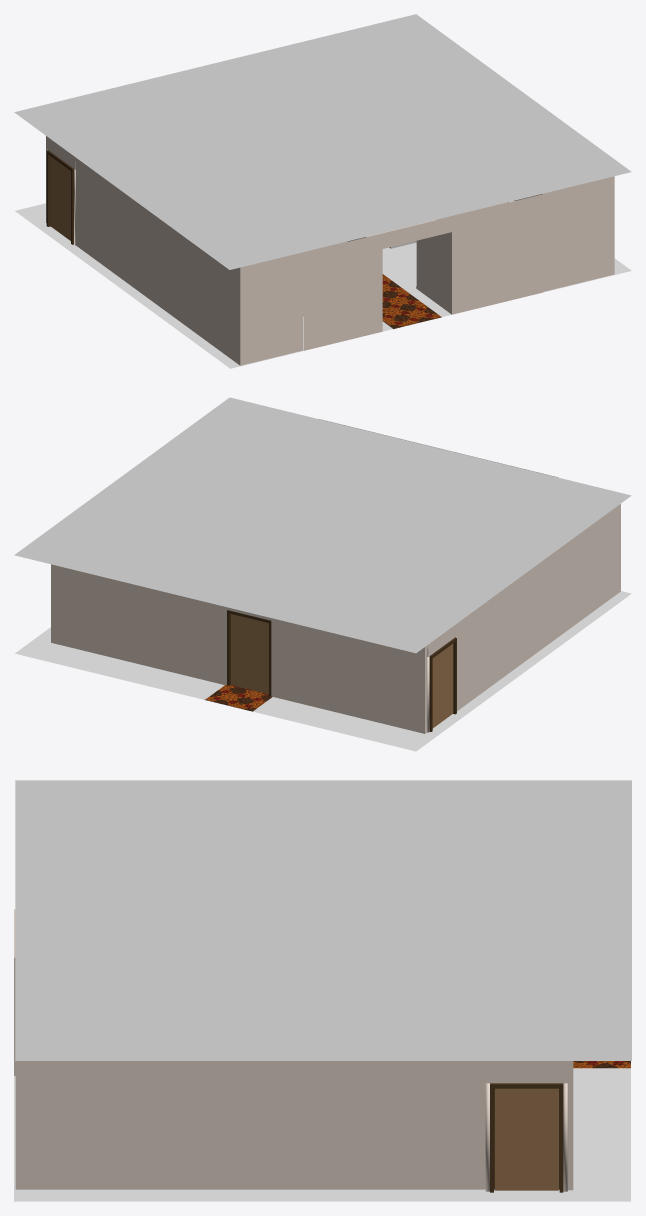
File: Reception.fbx
The picture shows the model from 3 angles, top to bottom: view 1: azimuth 30°, elevation 25°; view 2: azimuth 150°, elevation 25°; view 3: azimuth 270°, elevation 25°; orthographic projection. The views are drawn at different scales.
Parts seen in each view (by area): view 1: reception_skirt; view 2: reception_skirt; view 3: reception_skirt.
Part boxes in pixels (left/top/right/bottom): reception_skirt: left=14, top=14, right=631, bottom=368; reception_skirt: left=14, top=397, right=631, bottom=751; reception_skirt: left=14, top=780, right=631, bottom=1201.
Size of the model in its own units: 16.66 by 3.91 by 15.51.
